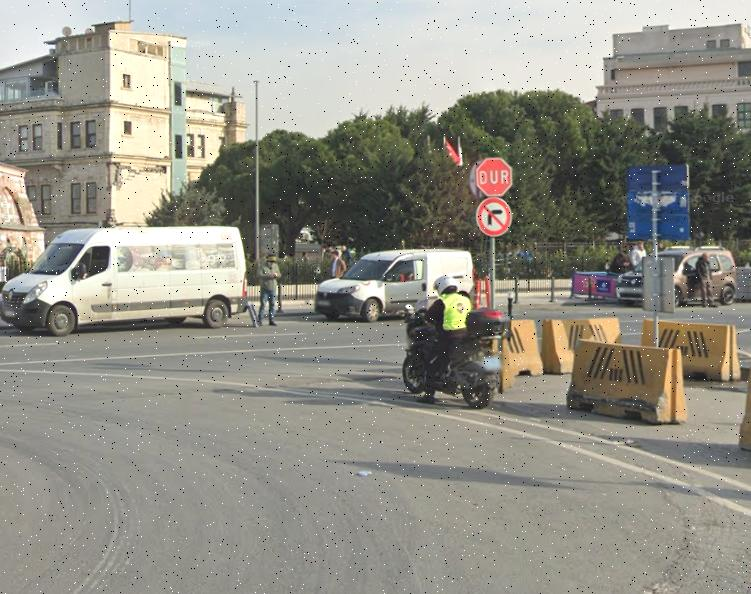rightturnsareforbidden: (478, 198, 512, 235)
stop: (477, 159, 512, 194)
